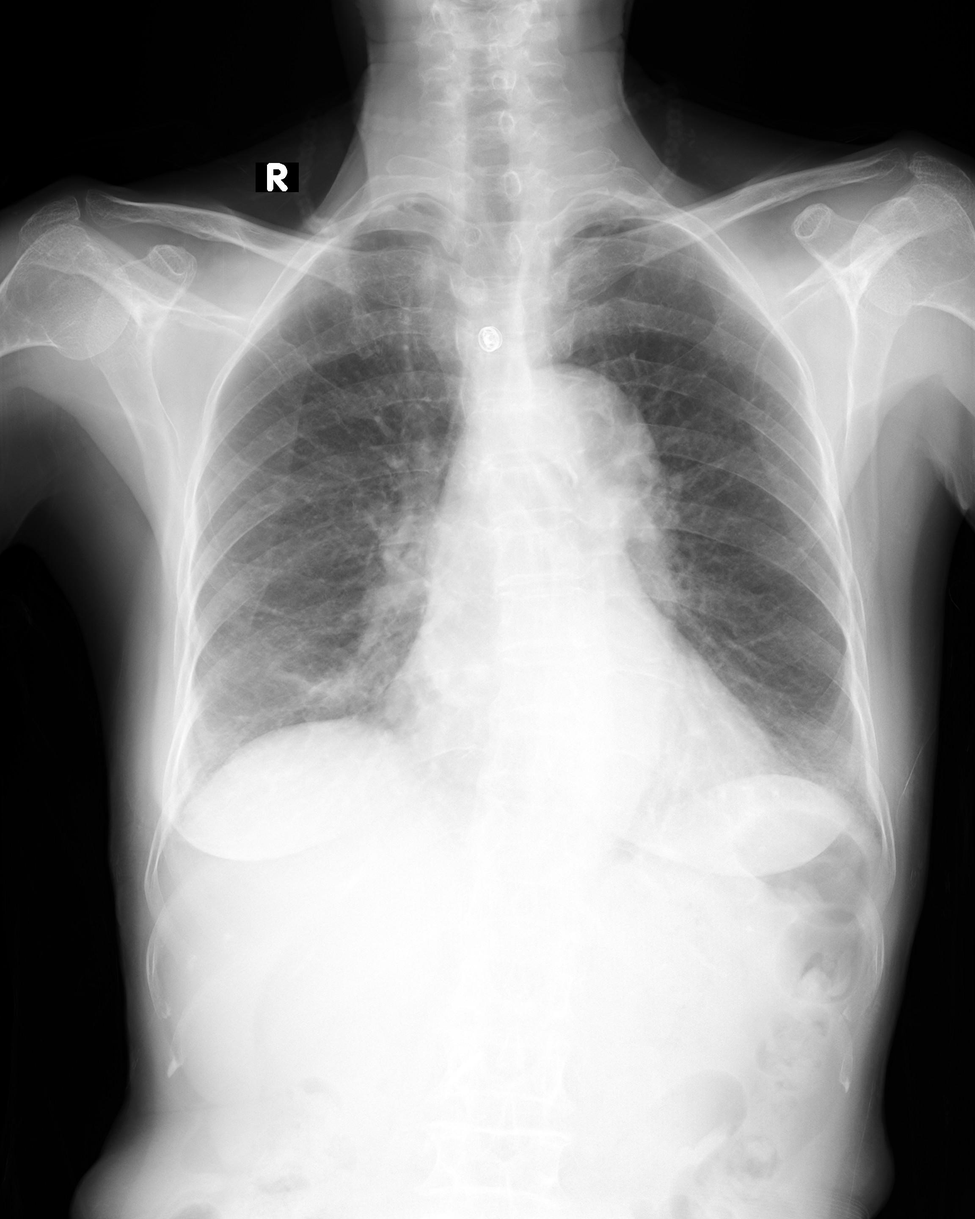Aortic enlargement: (547, 363, 673, 567)
Cardiomegaly: (368, 649, 784, 778)
